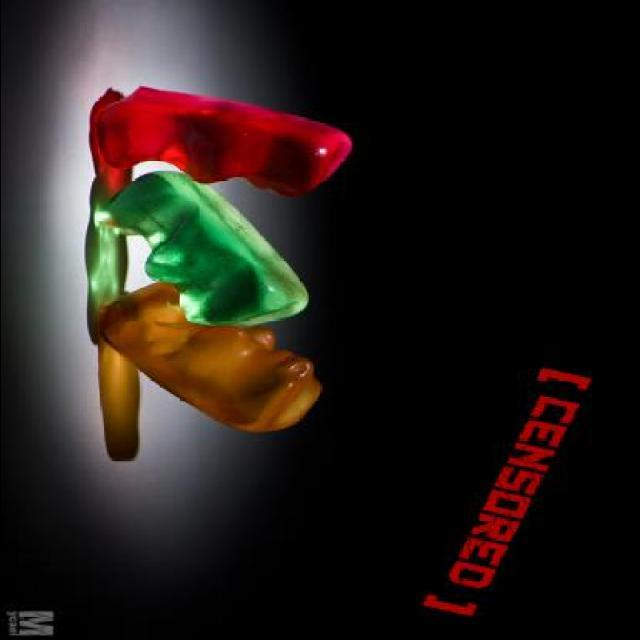Candy: (96, 280, 322, 434), (92, 170, 310, 328), (90, 83, 356, 199)
